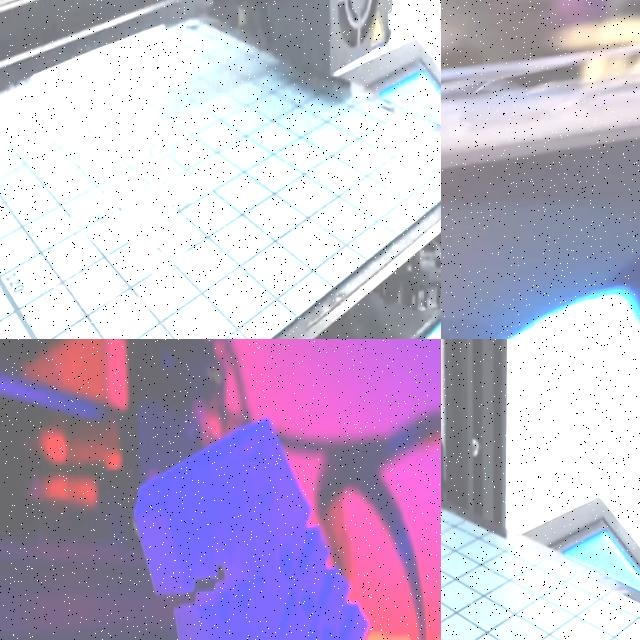spaghetti: (441, 32, 640, 201)
